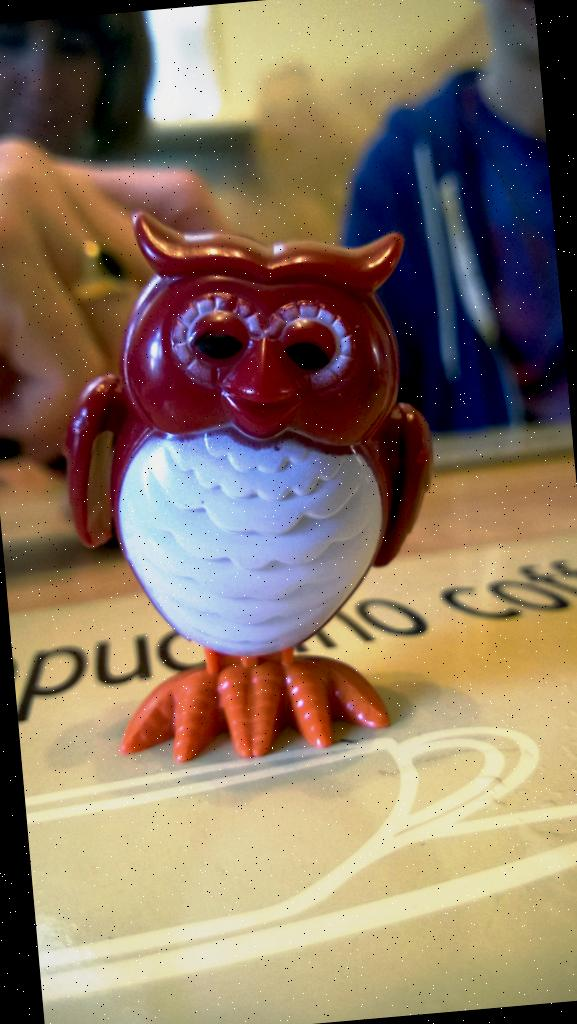Owl: (36, 185, 464, 774)
